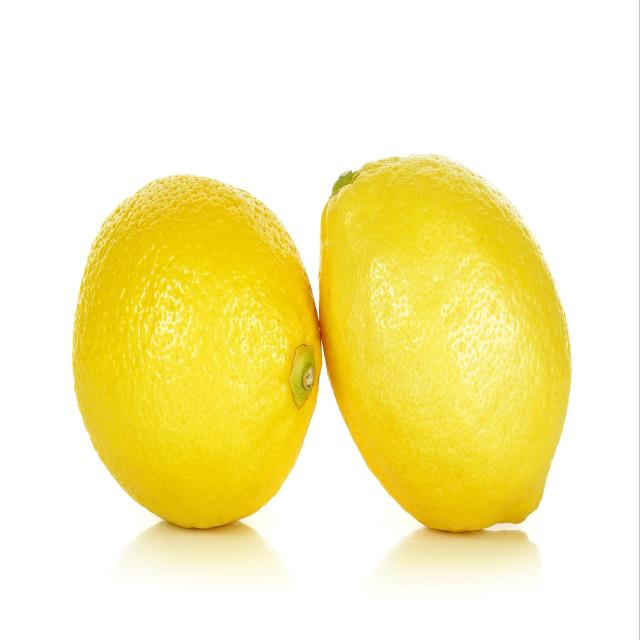lemon: (314, 144, 576, 536), (70, 170, 325, 535)
